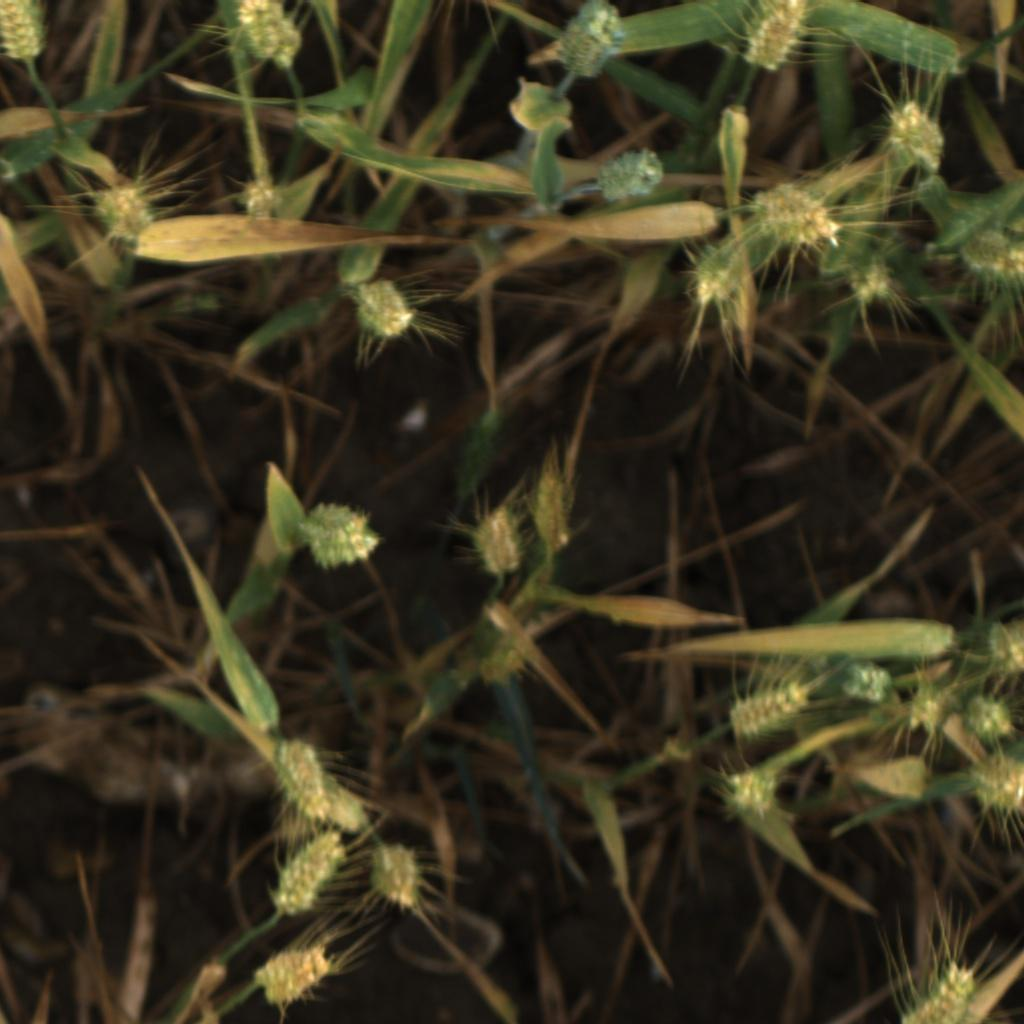0-0: (751, 179, 849, 252), (270, 829, 348, 919), (297, 500, 384, 574), (549, 4, 626, 87), (226, 0, 310, 73), (880, 96, 952, 180), (249, 941, 335, 1011), (726, 671, 811, 741), (739, 0, 816, 77), (273, 740, 343, 823), (890, 961, 980, 1024), (589, 144, 670, 208), (527, 465, 577, 565), (90, 178, 160, 248), (682, 240, 745, 317), (367, 841, 430, 915), (956, 224, 1024, 291), (351, 282, 421, 346), (464, 506, 526, 577), (221, 165, 293, 225), (900, 673, 961, 743), (718, 761, 782, 827), (0, 0, 59, 71), (965, 749, 1024, 818), (843, 249, 901, 319), (962, 689, 1019, 749), (838, 657, 896, 710), (980, 617, 1024, 679), (480, 642, 531, 690)
